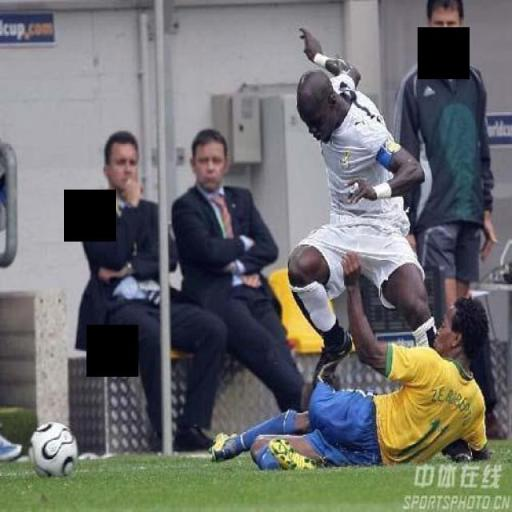Fall: (209, 259, 506, 472)
